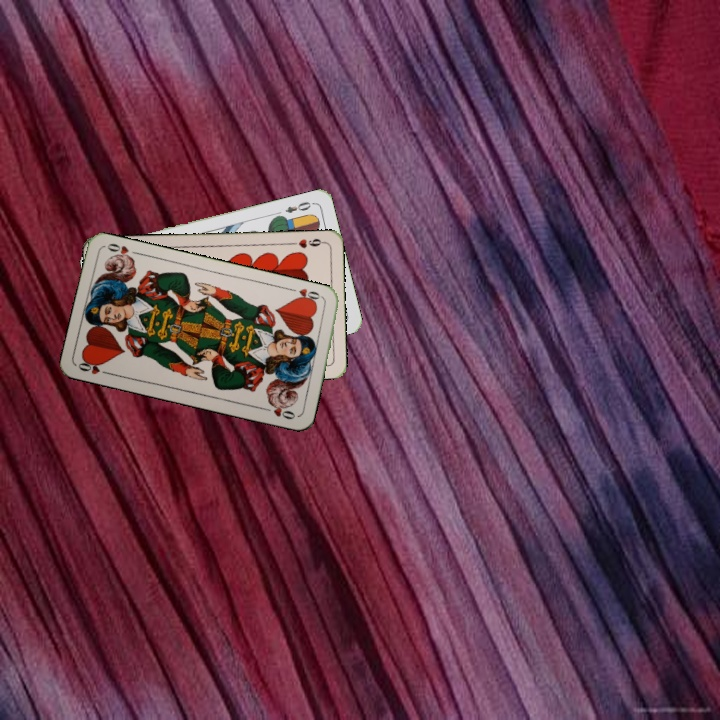EO: (281, 198, 317, 216)
H9: (286, 234, 327, 250)
HO: (74, 355, 114, 378), (286, 284, 326, 306)
